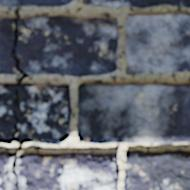brick: (78, 83, 189, 143), (126, 13, 189, 73), (124, 151, 189, 189), (83, 0, 189, 7)
broken_brick: (17, 15, 118, 77), (0, 152, 118, 189), (17, 83, 72, 145), (0, 17, 18, 75), (0, 82, 16, 144), (0, 0, 73, 7), (0, 151, 17, 154)
crack: (0, 2, 30, 187), (168, 168, 189, 180), (177, 153, 189, 161), (77, 122, 83, 130), (63, 85, 67, 89)
